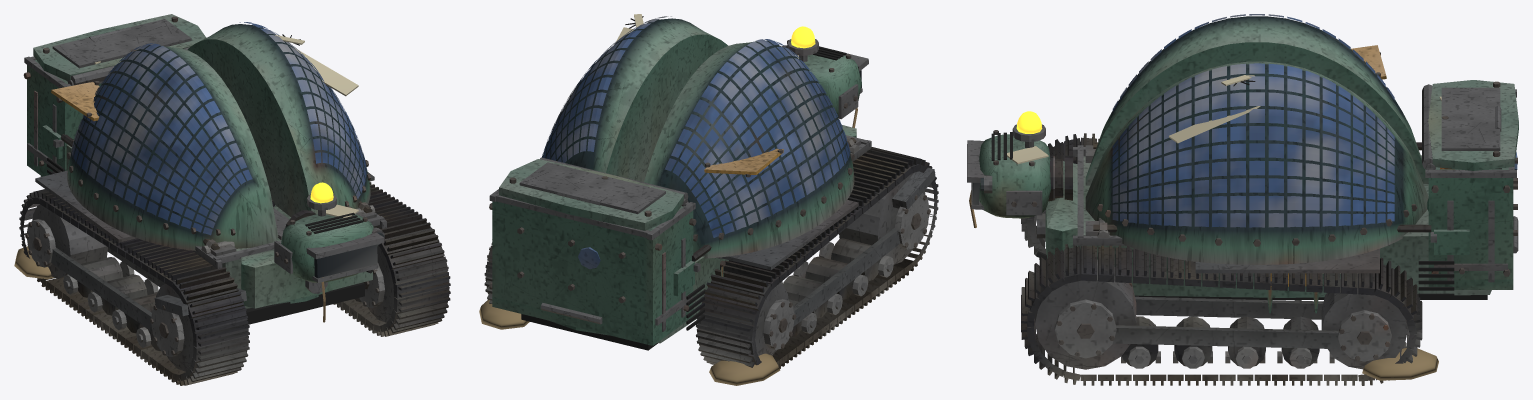
File: collector_hero.glb
3 views of the same model, side by side, from view 1: azimuth 30°, elevation 25°; view 2: azimuth 150°, elevation 25°; view 3: azimuth 270°, elevation 25° (orthographic). The views are drawn at different scales.
Visible parts, largest first — view 1: shell_r, track_r, shell_l, chassis, track_l, head, hopper_lid, hopper, lamp; view 2: shell_r, track_r, hopper, shell_l, hopper_lid, chassis, head, track_l, lamp; view 3: shell_l, track_l, shell_r, chassis, hopper, hopper_lid, head, track_r, lamp.
Part boxes in pixels (x1,y1,x2,y2): shell_r: [51, 43, 278, 250]; track_r: [14, 189, 249, 385]; shell_l: [187, 22, 370, 217]; chassis: [35, 125, 386, 324]; track_l: [333, 182, 450, 336]; head: [274, 204, 384, 322]; hopper_lid: [33, 14, 206, 85]; hopper: [23, 56, 104, 176]; lamp: [307, 182, 336, 216]; shell_r: [644, 39, 854, 258]; track_r: [696, 147, 938, 385]; hopper: [489, 189, 696, 345]; shell_l: [541, 14, 727, 182]; hopper_lid: [499, 157, 688, 230]; chassis: [521, 125, 871, 350]; head: [782, 40, 868, 127]; track_l: [479, 242, 529, 329]; lamp: [787, 26, 818, 62]; shell_l: [1085, 61, 1428, 264]; track_l: [1021, 244, 1438, 385]; shell_r: [1085, 14, 1428, 185]; chassis: [1036, 142, 1491, 313]; hopper: [1425, 89, 1518, 289]; hopper_lid: [1422, 80, 1518, 170]; head: [967, 130, 1072, 227]; track_r: [1021, 133, 1099, 259]; lamp: [1012, 111, 1045, 148].
Bounding box in the file's own units: 0.6826 × 0.6018 × 1.08.
Materials: 9 (4 with a texture image).
